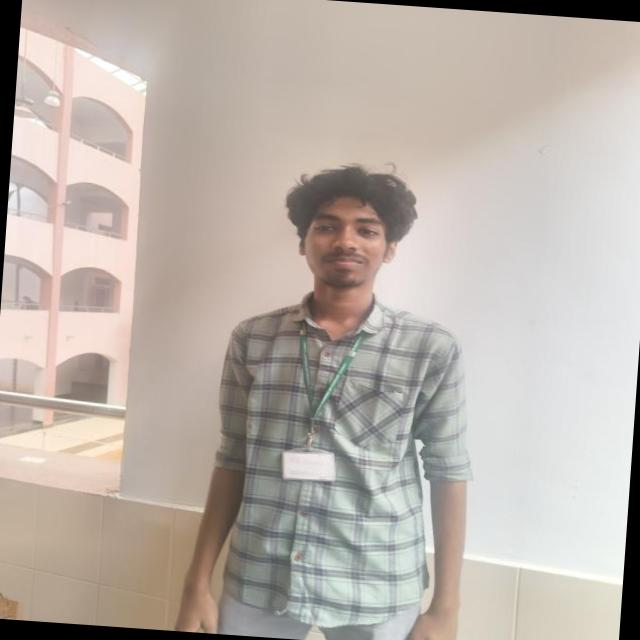id_card: (276, 318, 360, 488)
